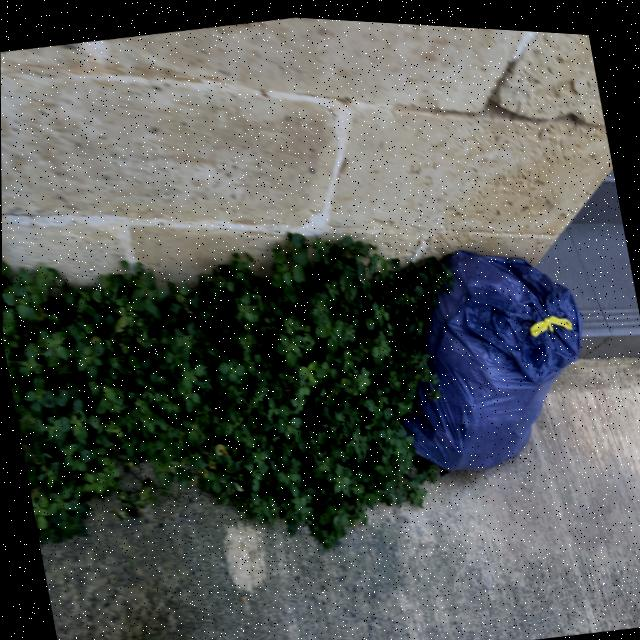Other: (369, 223, 604, 486)
